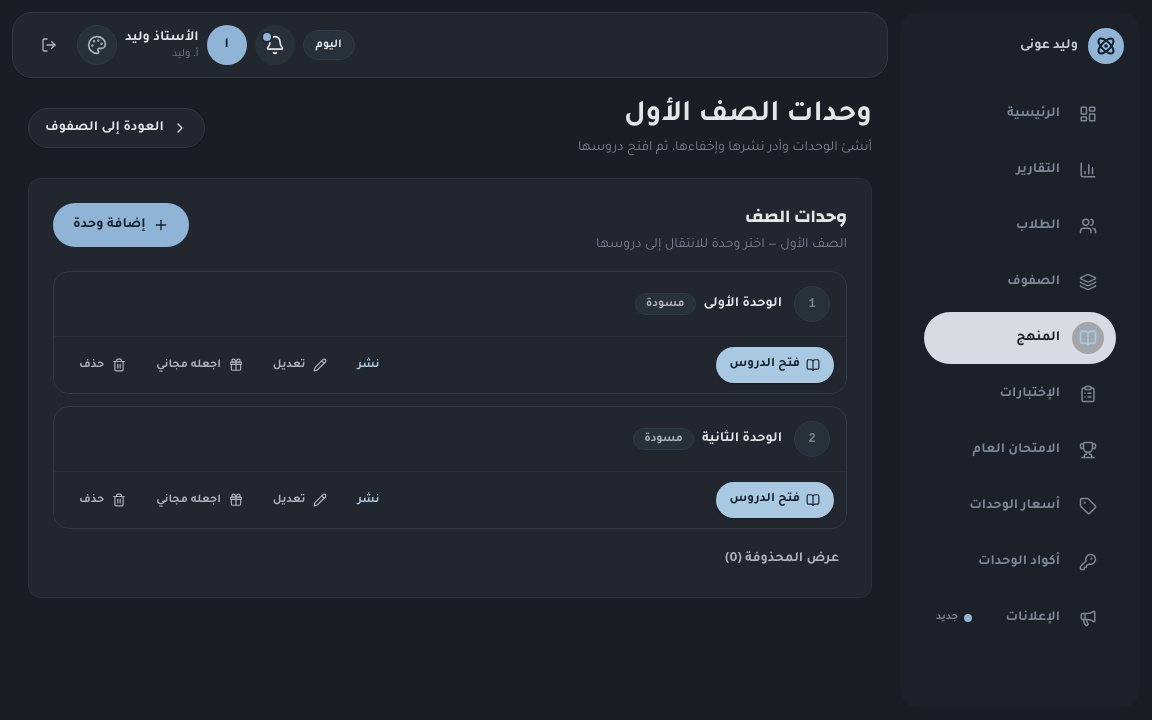
Test: CurriculumPage › creates a unit with a price and applies it via set_unit_price
Click the button "إضافة وحدة" at (121,225), box [53,203,190,247]
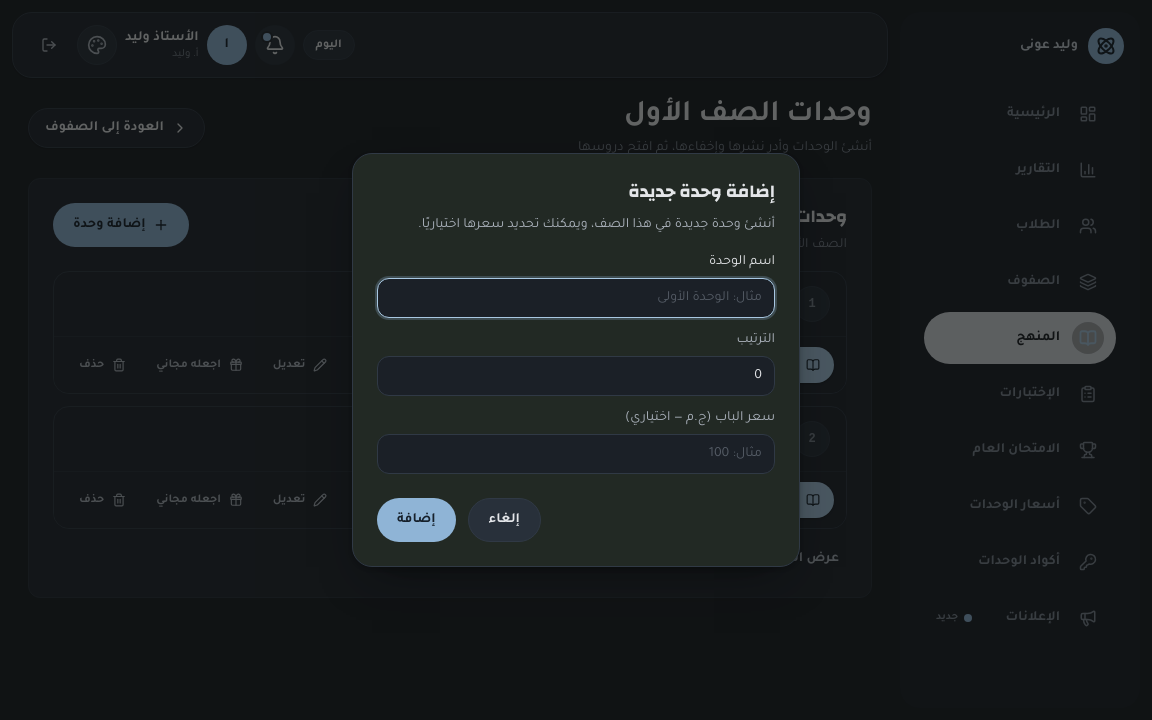
Type "الوحدة المسعرة" into the field labelled "اسم الوحدة" at (576,298), box [377,278,775,318]
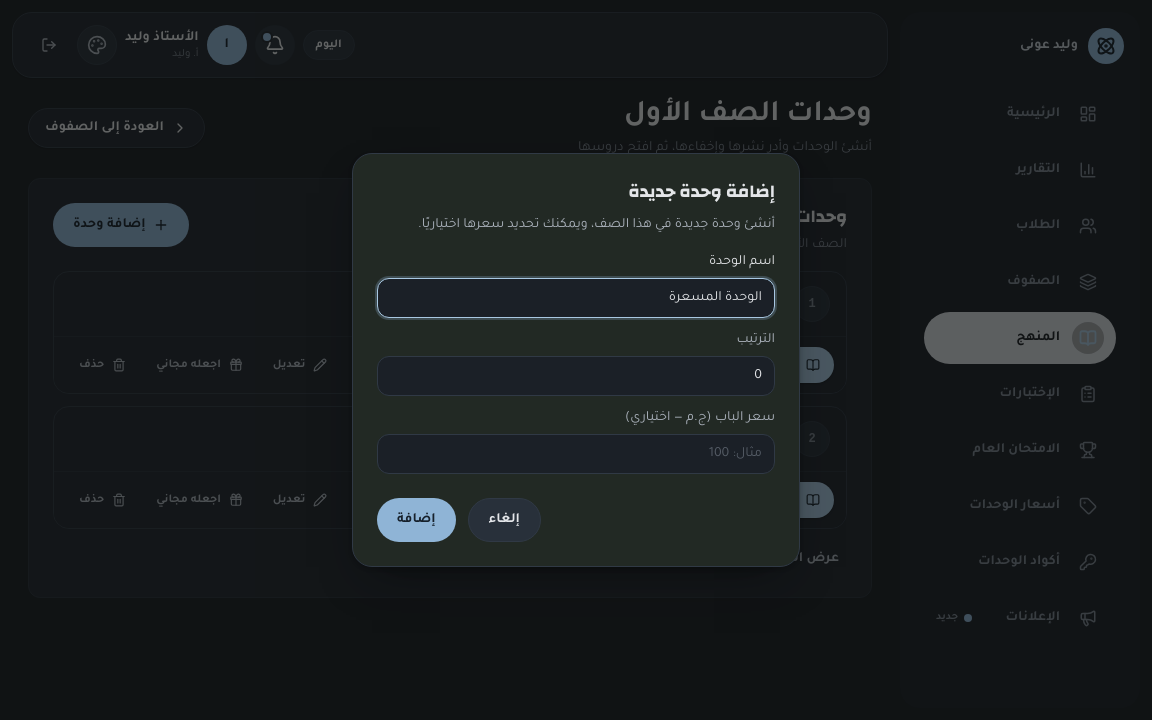
Type "150" into the number field labelled "سعر الباب (ج.م — اختياري)" at (576,454), box [377,434,775,474]
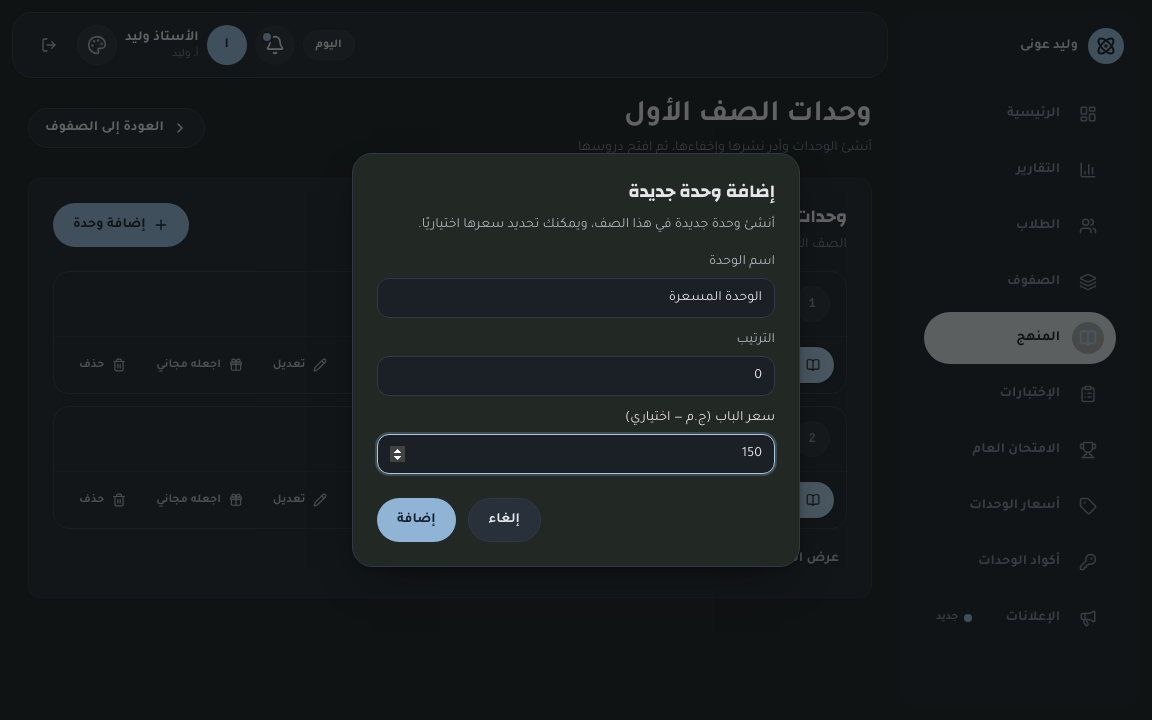
Click the button "إضافة" at (416,520), box [377,498,456,542]
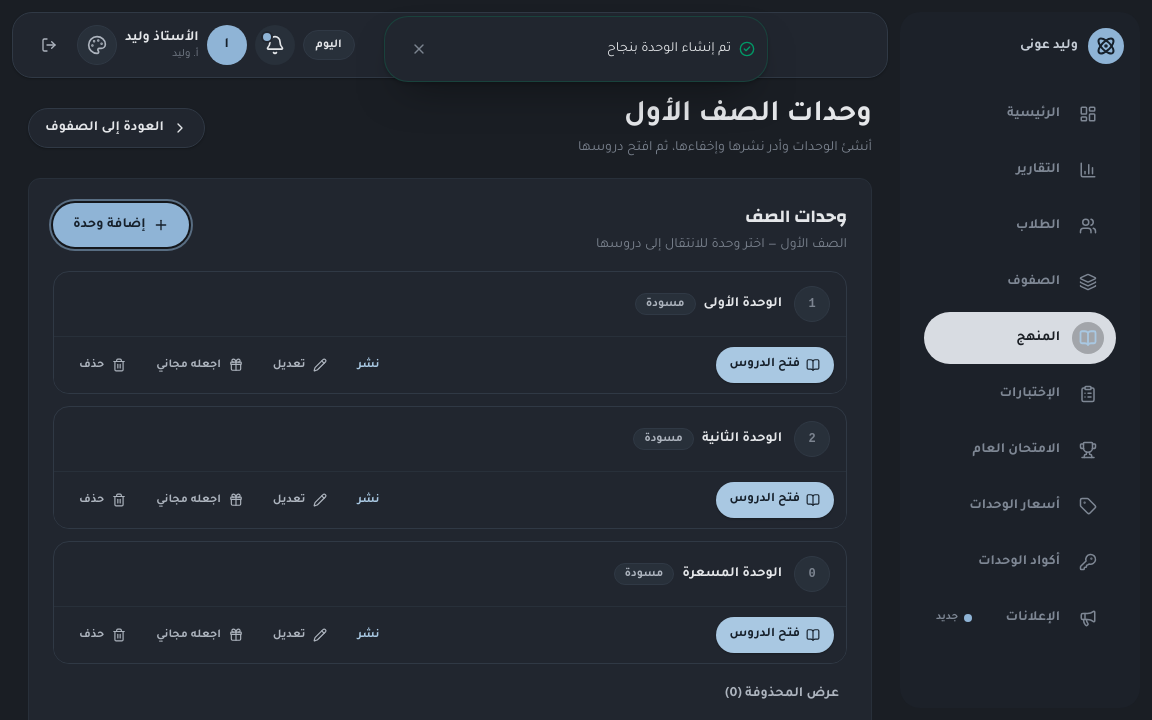
expect the text "تم إنشاء الوحدة بنجاح" is shown: met, box [607,42,731,56]
